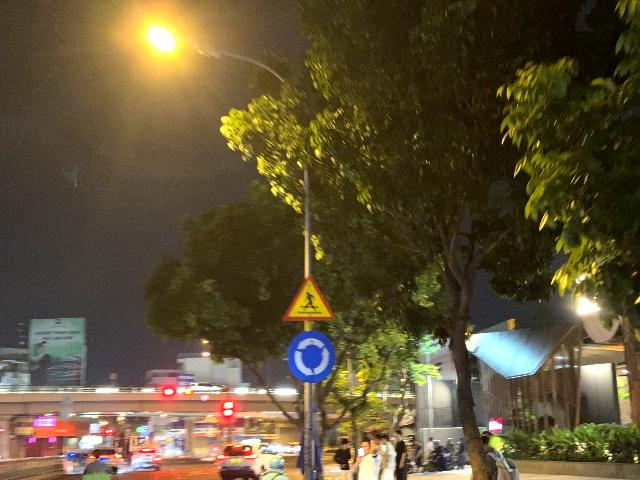duong-nguoi-di-bo-cat-ngang: (283, 274, 336, 320)
noi-giao-nhau-chay-theo-vong-xuyen: (288, 331, 336, 383)
